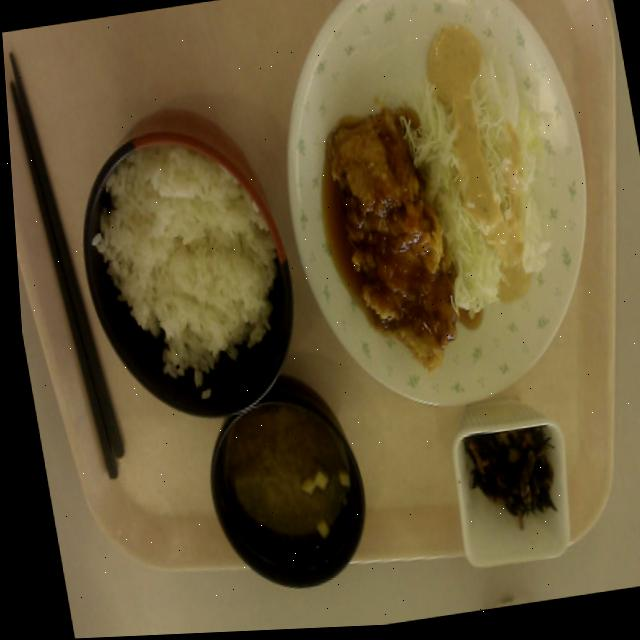汤锅炖物: (178, 352, 399, 623)
米饭主食: (73, 108, 317, 444)
蔬菜料理: (393, 7, 574, 342)
